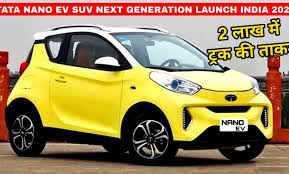Nano: (3, 26, 273, 164)
